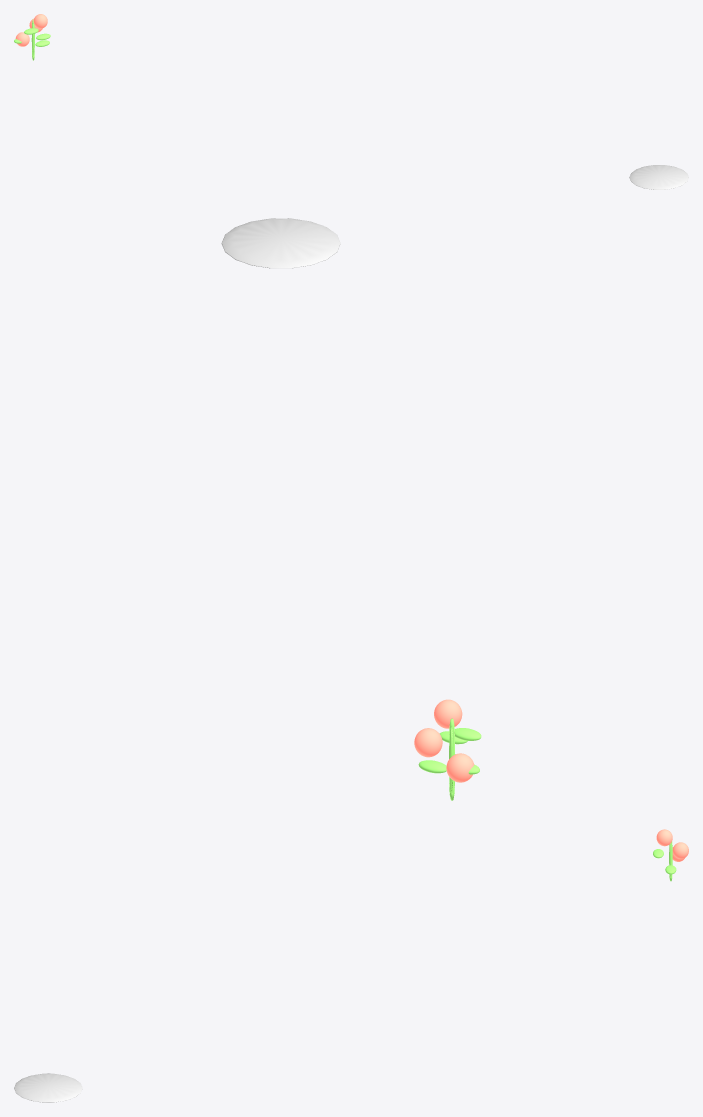
File: farm_crop_tomato_s2_v3.glb
3 views of the same model, one above another, from view 1: azimuth 30°, elevation 25°; view 2: azimuth 150°, elevation 25°; view 3: azimuth 270°, elevation 25° (orthographic). The views are drawn at different scales.
Parts seen in each view (by area): view 1: soil.008; view 2: soil.008; view 3: soil.008.
Boxes of the visible parts, left/top/right/bottom form: soil.008: left=629, top=165, right=688, bottom=189; soil.008: left=221, top=218, right=340, bottom=268; soil.008: left=14, top=1073, right=82, bottom=1102.
Size of the model in its own units: 4.25 by 0.5664 by 5.42.
